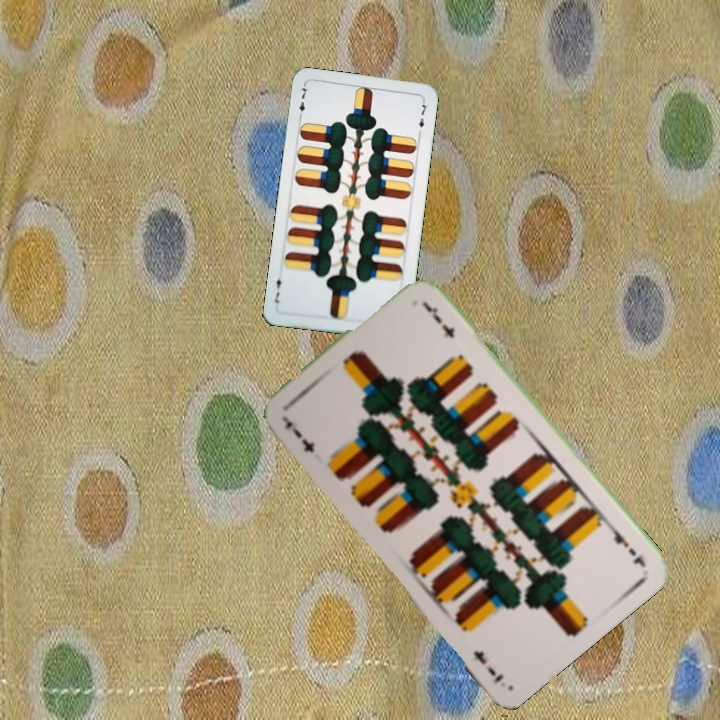E7: (604, 520, 648, 570), (279, 413, 317, 456), (295, 82, 311, 122)
